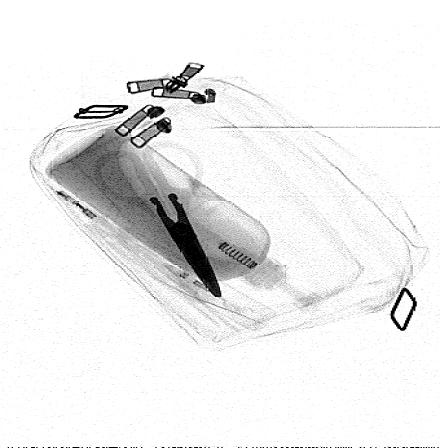Scissors: (92, 141, 222, 299)
